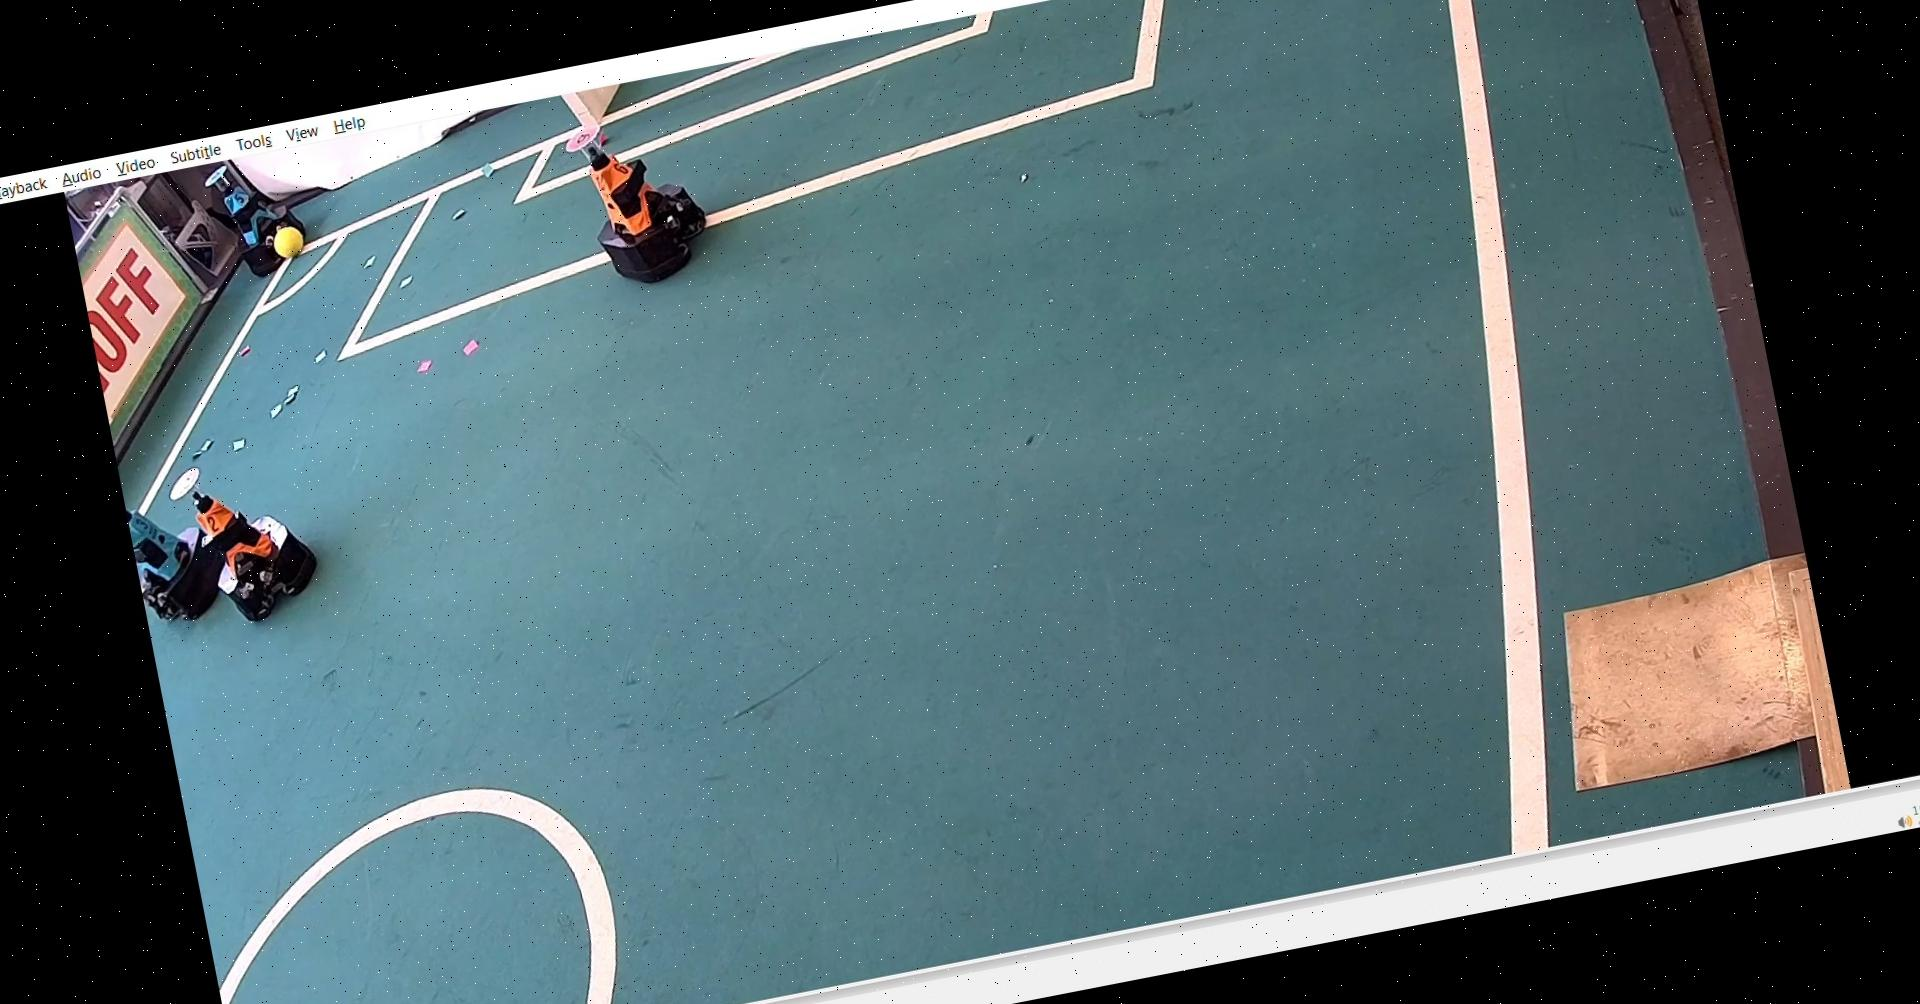Ball: (263, 215, 310, 261)
Team_Blue: (128, 480, 223, 636), (204, 149, 316, 275)
Team_Red: (564, 102, 709, 291), (174, 446, 323, 624)
